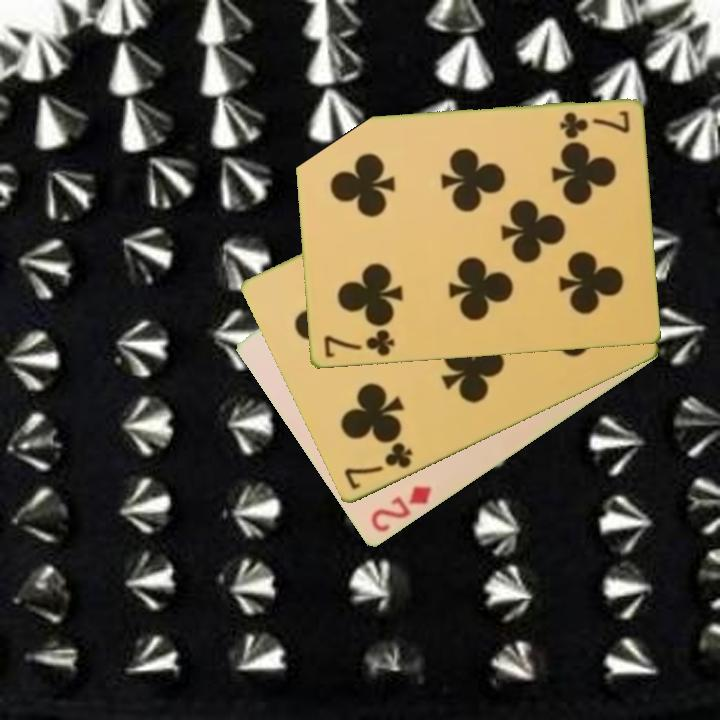2d: (367, 482, 434, 536)
7c: (340, 439, 416, 493), (320, 326, 397, 361), (555, 107, 632, 141)
